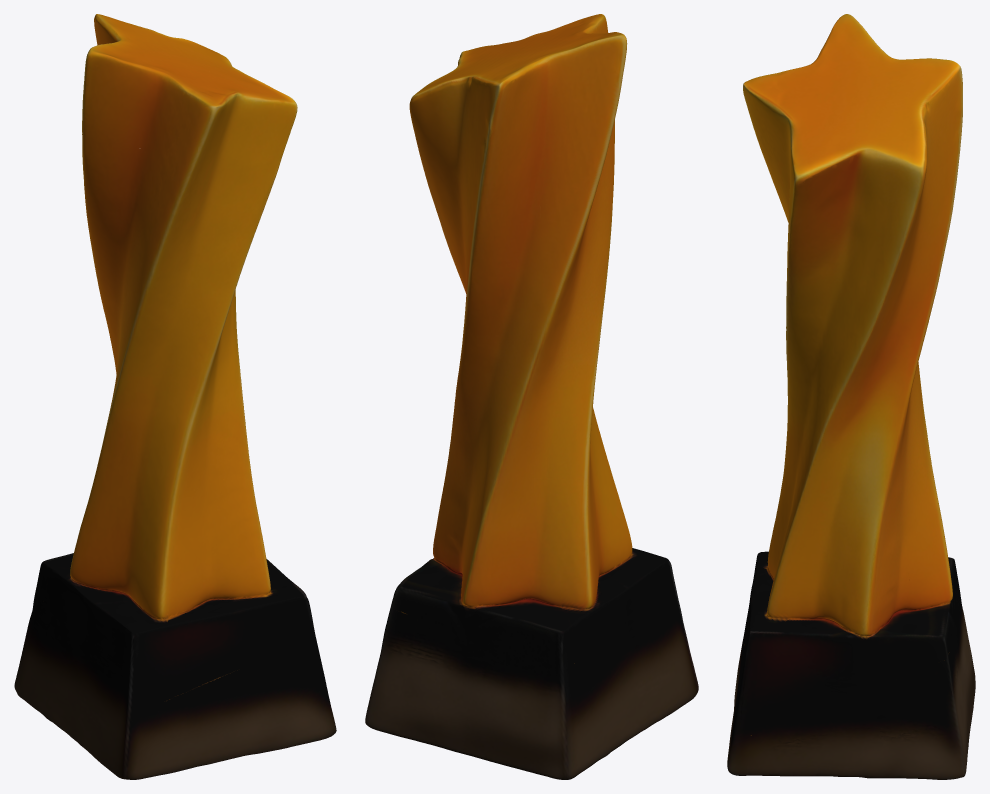
File: trophy.glb
3 renders of one model, left to right at view 1: azimuth 30°, elevation 25°; view 2: azimuth 150°, elevation 25°; view 3: azimuth 270°, elevation 25°, orthographic. The views are drawn at different scales.
Visible parts, largest first — view 1: tripo_node_7d2a6d1b-d1f3-4f88-bcef-0972c391fd63; view 2: tripo_node_7d2a6d1b-d1f3-4f88-bcef-0972c391fd63; view 3: tripo_node_7d2a6d1b-d1f3-4f88-bcef-0972c391fd63.
Part boxes in pixels (box(x1,y1,x2,y2)): tripo_node_7d2a6d1b-d1f3-4f88-bcef-0972c391fd63: box(14, 14, 336, 779); tripo_node_7d2a6d1b-d1f3-4f88-bcef-0972c391fd63: box(365, 14, 698, 779); tripo_node_7d2a6d1b-d1f3-4f88-bcef-0972c391fd63: box(727, 14, 975, 779).
Size of the model in its own units: 0.3221 by 0.9795 by 0.3273.
Materials: 1 (1 with a texture image).
